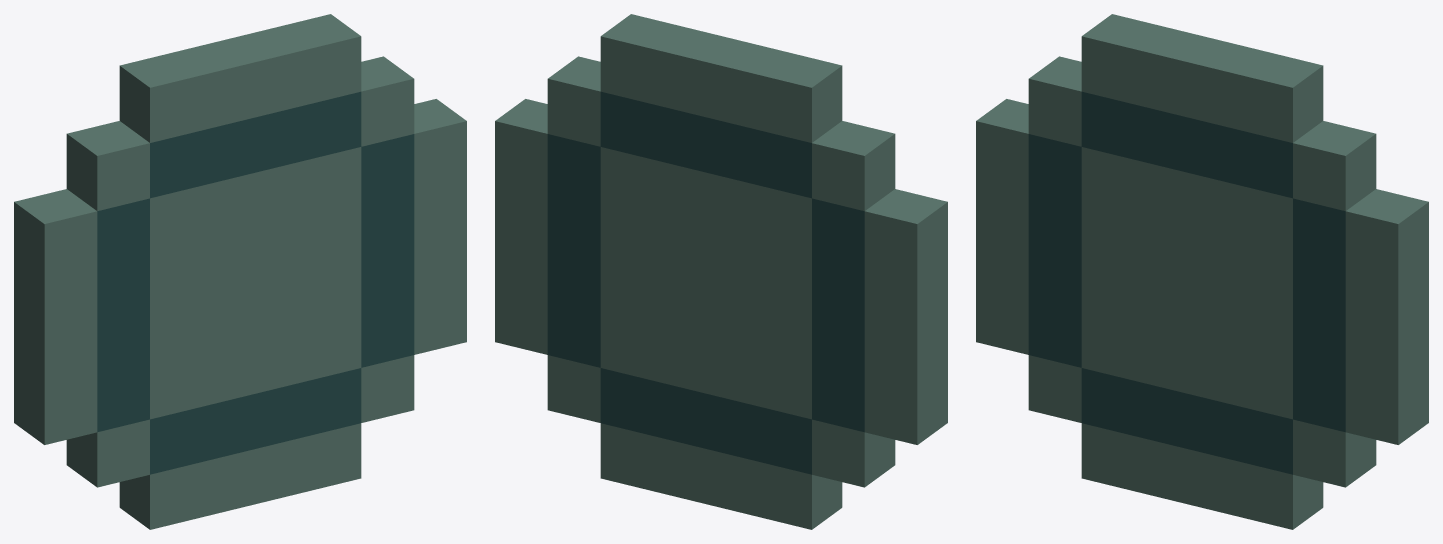
File: Coin_Small_4.obj
3 renders of one model, left to right at view 1: azimuth 30°, elevation 25°; view 2: azimuth 150°, elevation 25°; view 3: azimuth 330°, elevation 25°, orthographic.
Size of the model in its own units: 0.2 by 0.2 by 0.025.
